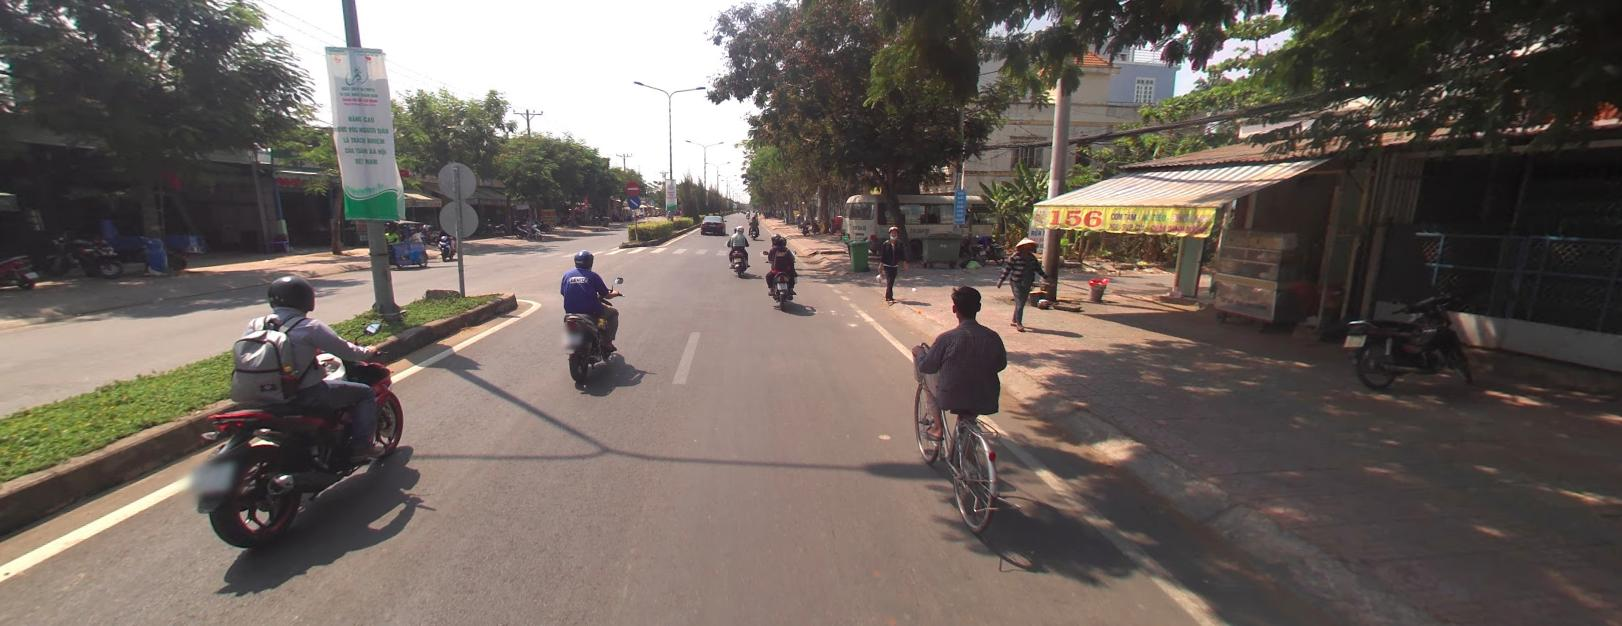Cam nguoc chieu: (625, 180, 638, 193)
Hieu lenh: (627, 195, 639, 207)
